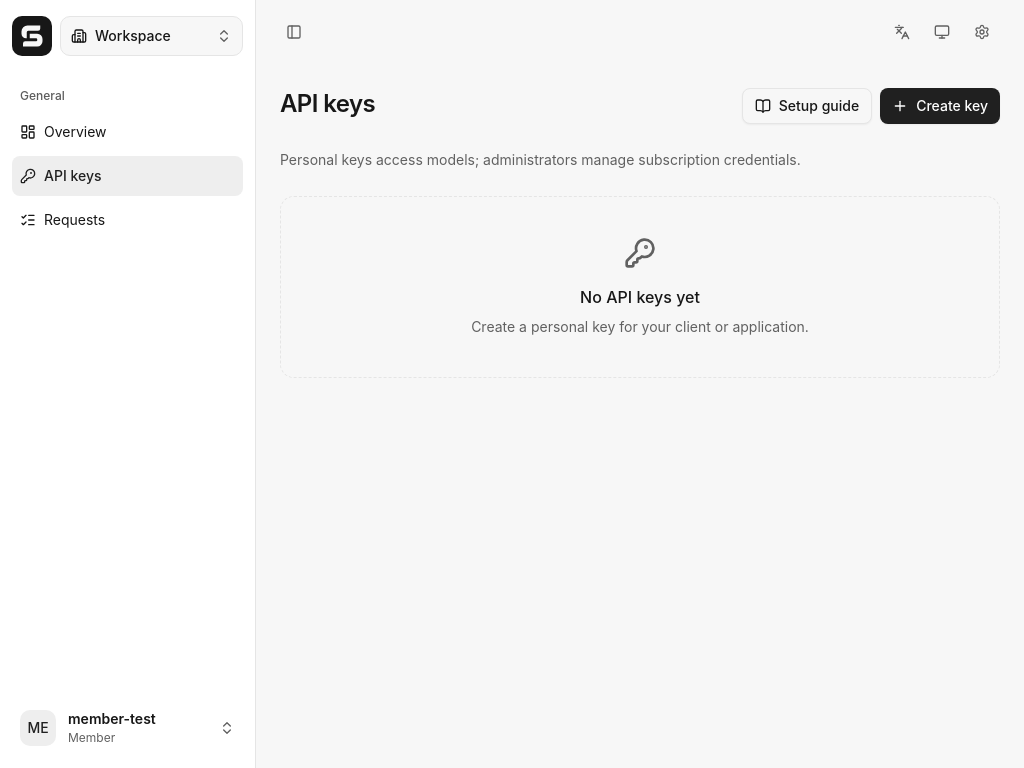
it: warns that a key bound to an empty pool cannot serve requests yet
Expected: the heading "No API keys yet" is shown, [580,285,700,309]
Click the button "Create key" at (940,106), box [880,88,1000,124]
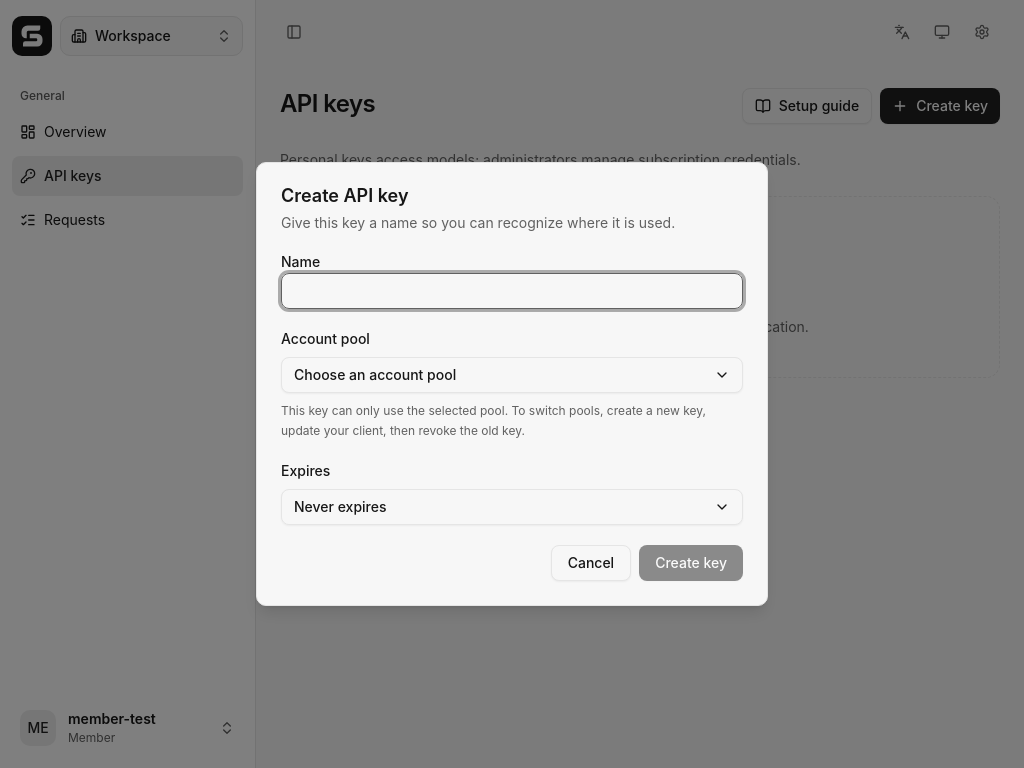
Click the button "Choose an account pool" at (375,374), box [281,357,743,393]
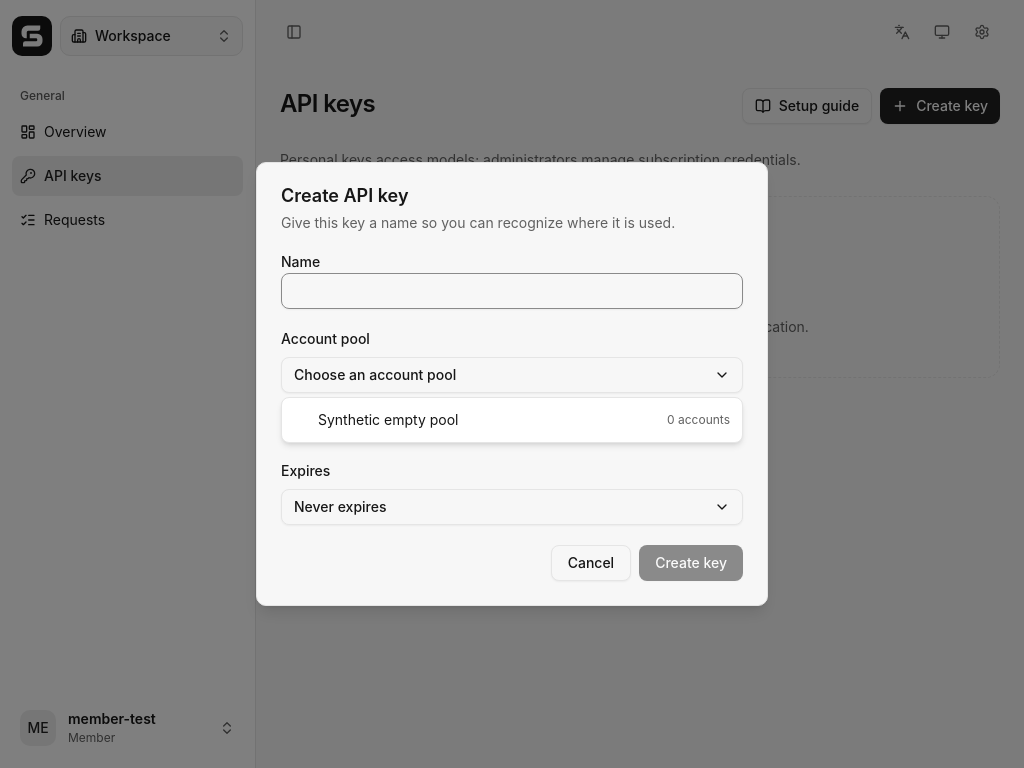
Click the menu item "Synthetic empty pool 0 accounts" at (388,420), box [318,411,730,428]
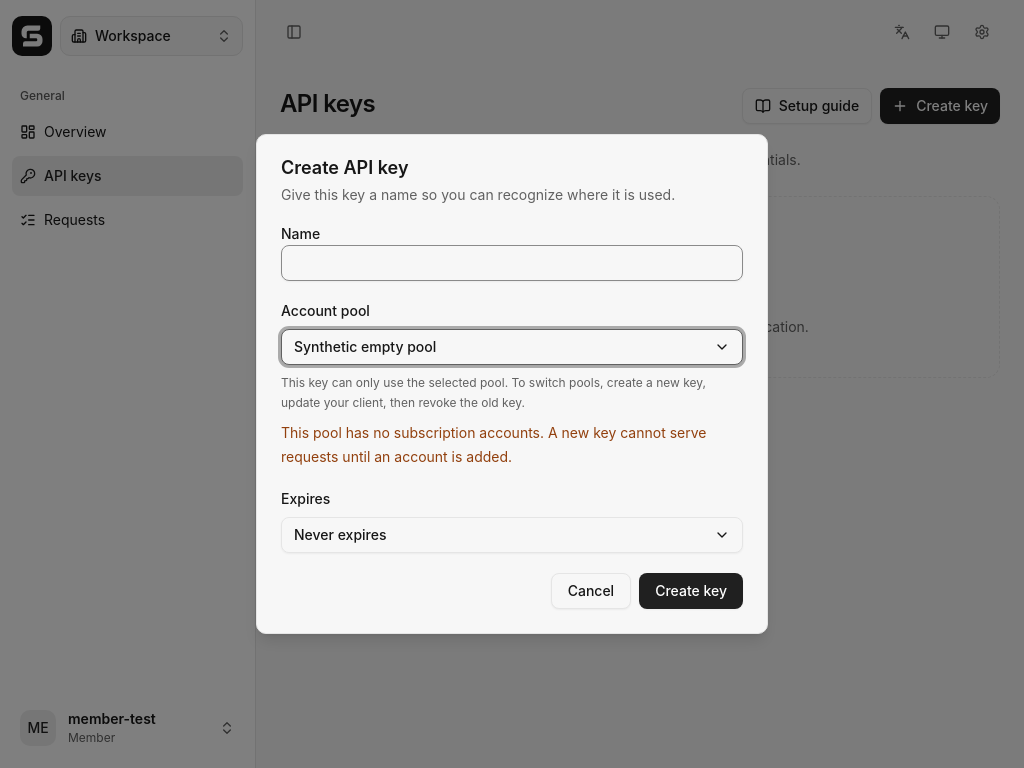
Now the text "This pool has no subscription accounts. A new key cannot serve requests until an account is added." is shown, box [281,424,706,465]
